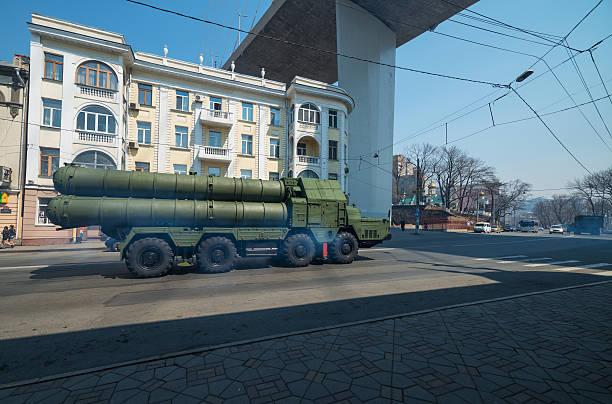MIL_SAM_TEL: (42, 164, 393, 278)
